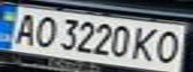0: (109, 22, 136, 60)
2: (93, 20, 115, 57), (75, 18, 96, 55)
3: (54, 16, 81, 52)
A: (6, 10, 42, 46)
K: (127, 25, 163, 62)
O: (151, 28, 187, 64), (27, 14, 60, 48)
